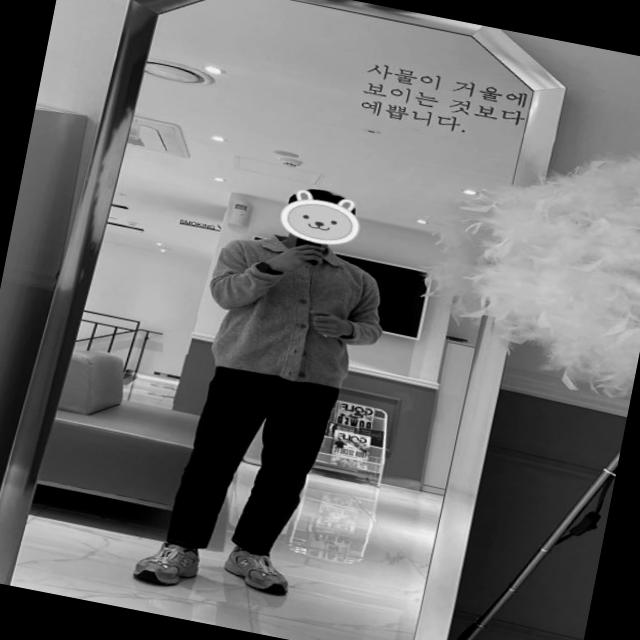cardigan: (195, 225, 394, 398)
slacks: (162, 358, 334, 570)
